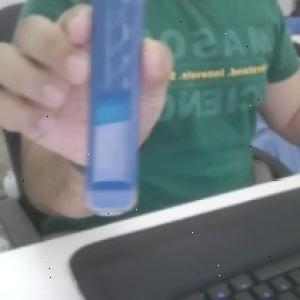Diamond-E-Ciggirate: (83, 0, 143, 217)
